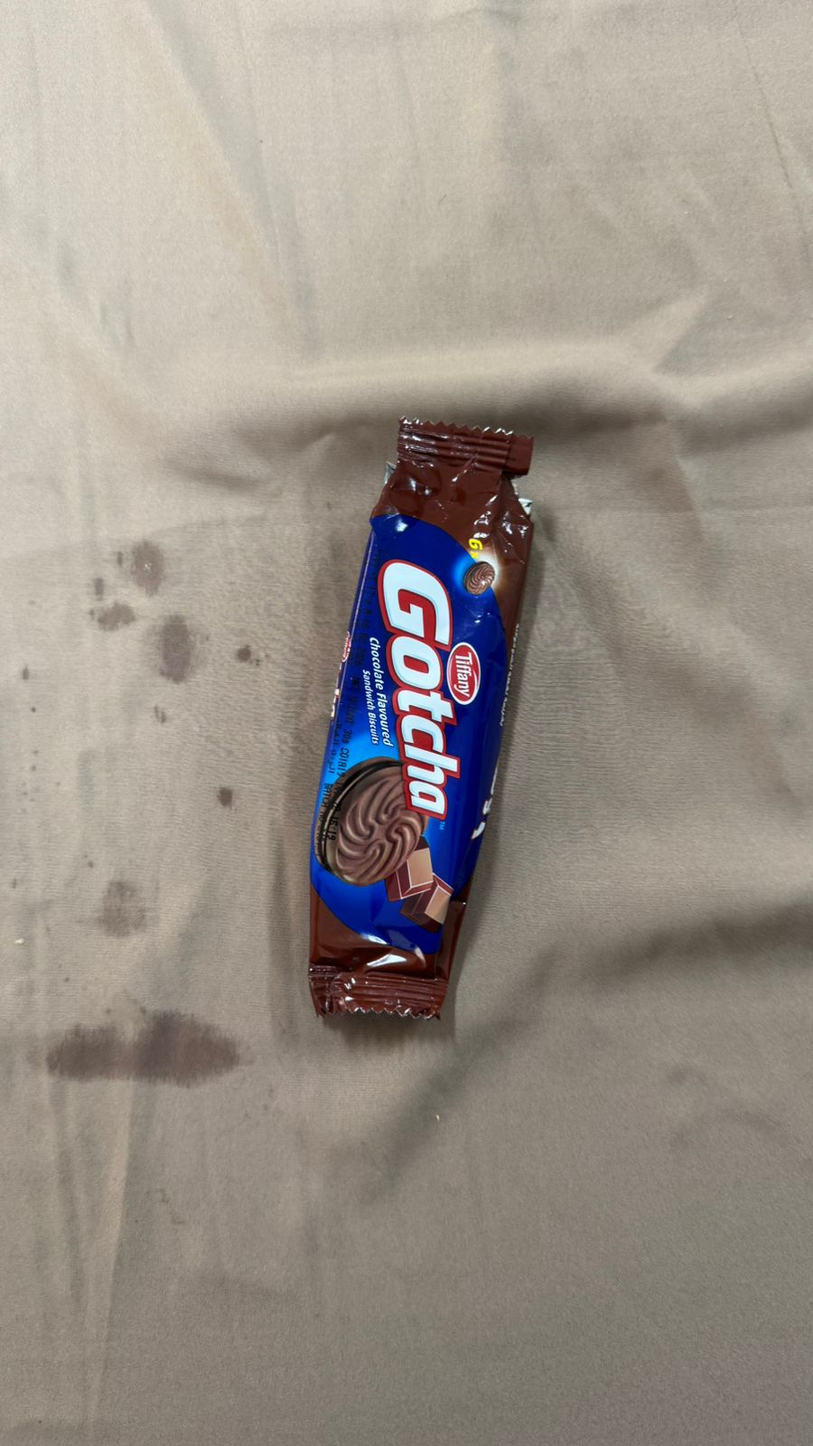plastic: (81, 282, 732, 1439)
